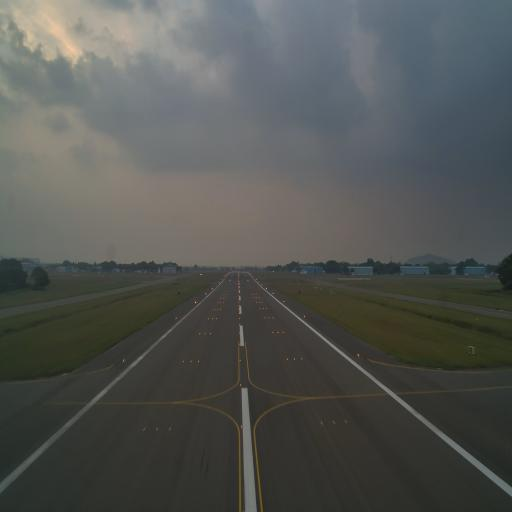on: (240, 422, 244, 431), (168, 424, 172, 432), (320, 418, 324, 426), (332, 418, 336, 426), (293, 356, 297, 363), (344, 418, 348, 425), (156, 426, 159, 434), (122, 358, 126, 364), (286, 355, 289, 363), (356, 352, 360, 358), (143, 426, 146, 433), (238, 358, 242, 363), (197, 358, 200, 364), (300, 355, 303, 361), (182, 359, 185, 364), (189, 359, 192, 364), (239, 382, 242, 387)
